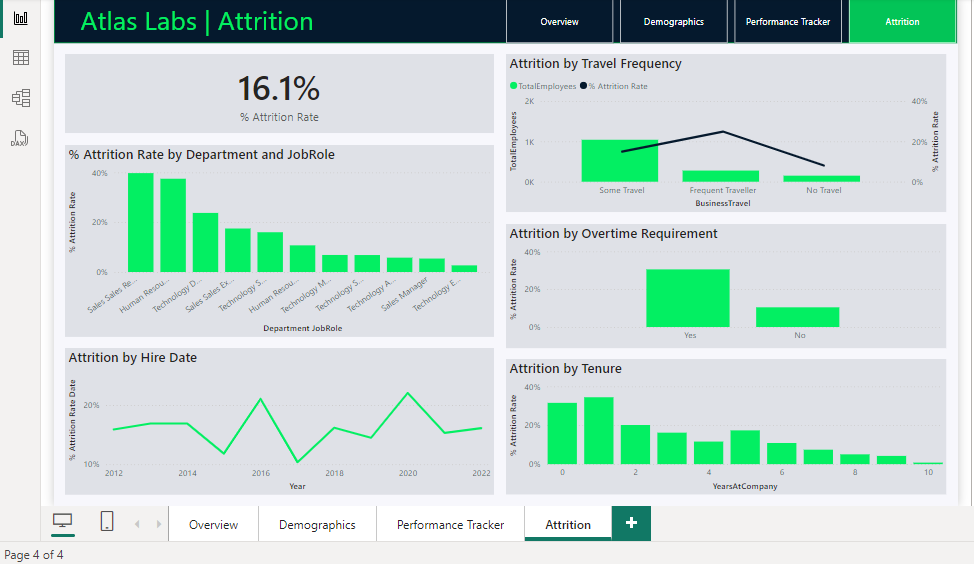

The page's visual inventory and layout, read from the dashboard file:
{"tool":"powerbi","page":{"name":"Attrition","canvas":[1280,720],"ordinal":3},"visuals":[{"type":"card","fields":{"Values":["_Measures.% Attrition Rate"]},"box":[16,80,608,112],"z":0},{"type":"columnChart","fields":{"Category":["DimEmployee.Department","DimEmployee.JobRole"],"Y":["_Measures.% Attrition Rate"]},"box":[16,208,608,272],"z":1000},{"type":"lineChart","title":"Attrition by Hire Date","fields":{"Y":["_Measures.% Attrition Rate Date"],"Category":["DimDate.Date.Variation.Date Hierarchy.Year","DimDate.Date.Variation.Date Hierarchy.Quarter","DimDate.Date.Variation.Date Hierarchy.Month","DimDate.Date.Variation.Date Hierarchy.Day"]},"box":[16,496,608,208],"z":2000},{"type":"lineStackedColumnComboChart","title":"Attrition by Travel Frequency","fields":{"Y":["_Measures.TotalEmployees"],"Category":["DimEmployee.BusinessTravel"],"Y2":["_Measures.% Attrition Rate"]},"box":[640,80,624,224],"z":3000},{"type":"columnChart","title":"Attrition by Overtime Requirement","fields":{"Category":["DimEmployee.OverTime"],"Y":["_Measures.% Attrition Rate"]},"box":[640,320,624,176],"z":4000},{"type":"columnChart","title":"Attrition by Tenure","fields":{"Category":["DimEmployee.YearsAtCompany"],"Y":["_Measures.% Attrition Rate"]},"box":[640,512,624,192],"z":5000},{"type":"shape","box":[0,0,1280,64],"z":6000},{"type":"textbox","box":[32,0,624,64],"z":7000},{"type":"pageNavigator","box":[640,0,640,64],"z":8000}]}

Visuals, with their boxes on the page's 1280x720 design canvas (x1, y1, x2, y2). These are canvas units, not pixel positions in the 974x564 screenshot, which may show the page scaled, cropped or inside an application window:
card - _Measures.% Attrition Rate: 16/80/624/192
columnChart - DimEmployee.Department x DimEmployee.JobRole: 16/208/624/480
"Attrition by Hire Date" lineChart: 16/496/624/704
"Attrition by Travel Frequency" lineStackedColumnComboChart: 640/80/1264/304
"Attrition by Overtime Requirement" columnChart: 640/320/1264/496
"Attrition by Tenure" columnChart: 640/512/1264/704
shape: 0/0/1280/64
textbox: 32/0/656/64
pageNavigator: 640/0/1280/64
